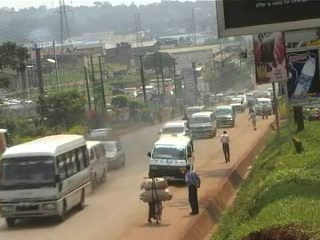Car: (157, 120, 195, 149), (100, 140, 127, 170), (89, 127, 124, 143), (229, 96, 246, 114), (238, 92, 249, 105)
Motorcycle: (180, 117, 189, 128)
